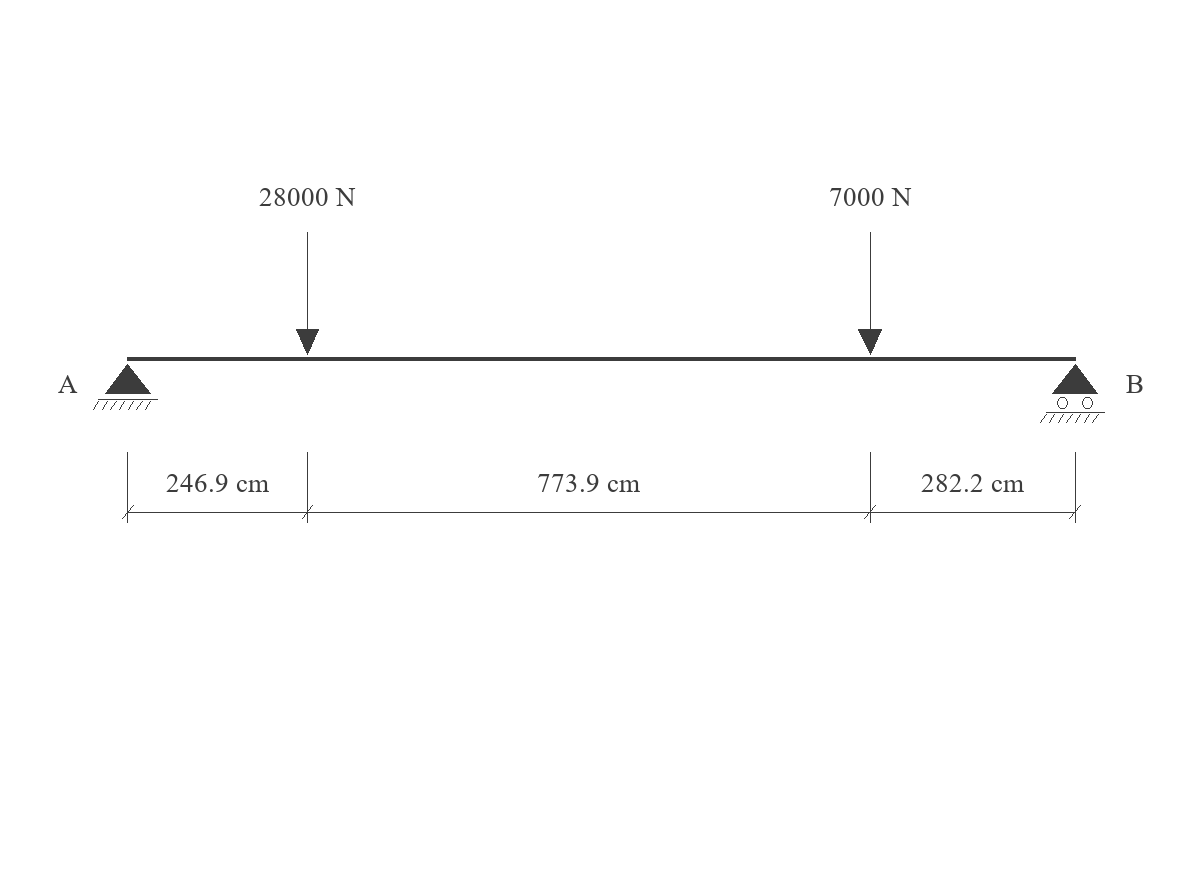pin_support: (93, 364, 158, 410)
point_load: (858, 232, 882, 355), (296, 232, 319, 355)
roller_support: (1040, 364, 1105, 423)
